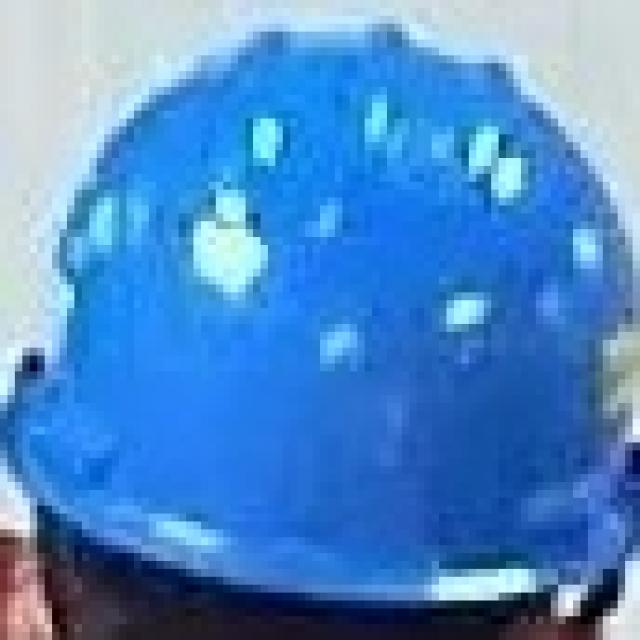helmet_blue: (4, 4, 636, 636)
